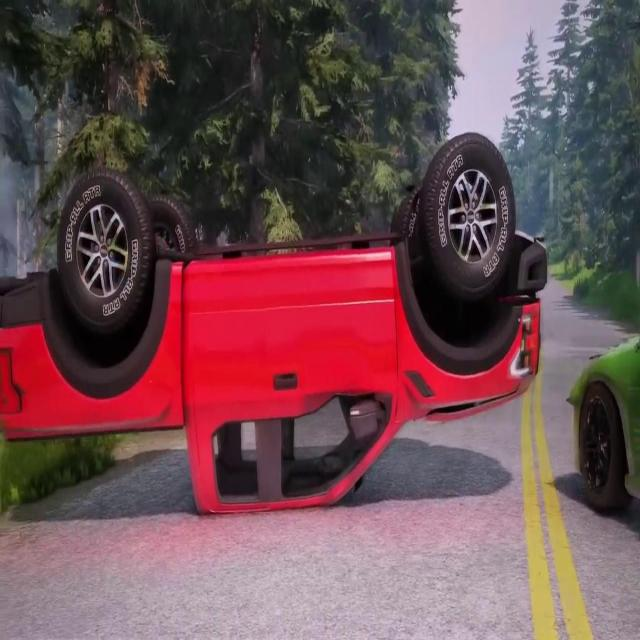severe: (0, 127, 552, 529)
